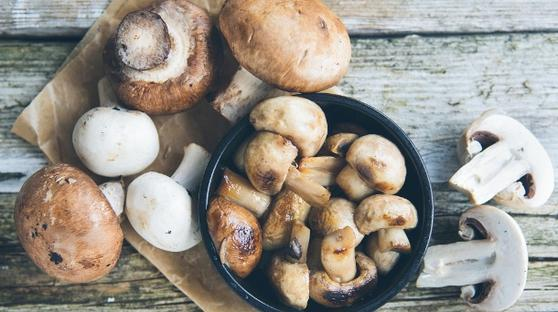champignon: (450, 107, 553, 219), (422, 206, 530, 309)
